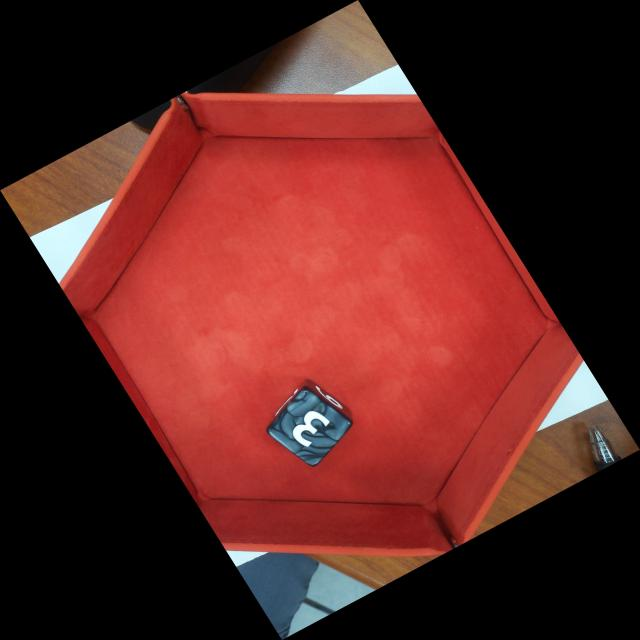dice: (266, 386, 353, 467)
